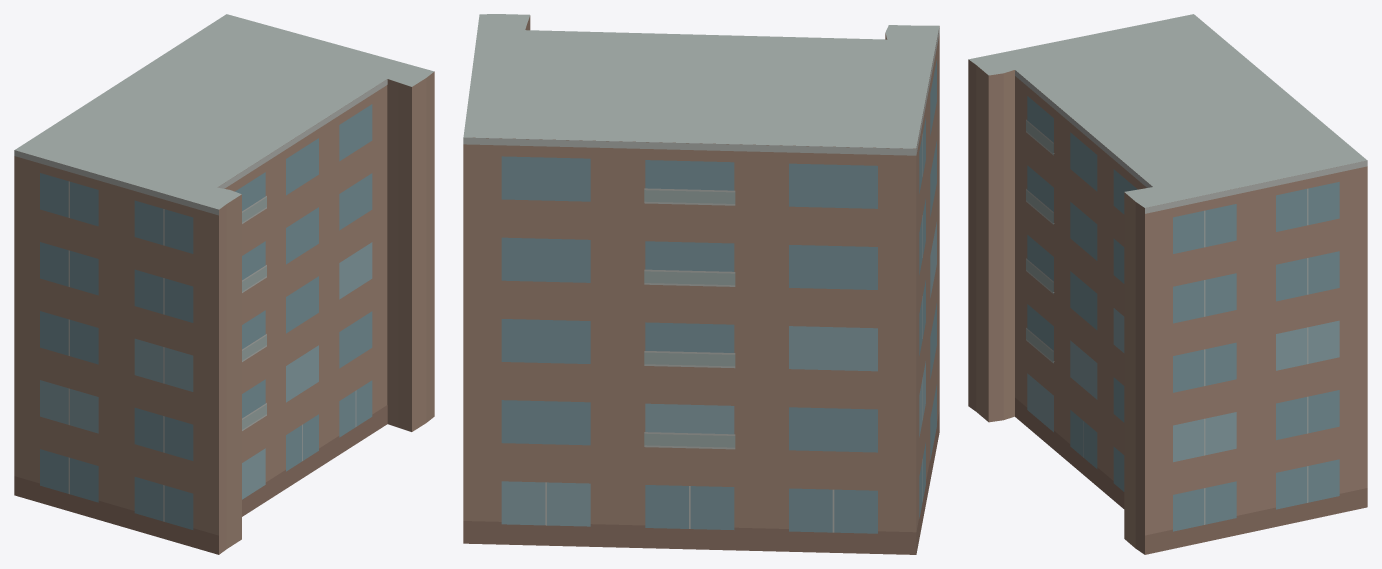
File: survey-upis-32891433.glb
3 renders of one model, left to right at view 1: azimuth 30°, elevation 25°; view 2: azimuth 150°, elevation 25°; view 3: azimuth 270°, elevation 25°, orthographic. The views are drawn at different scales.
Parts seen in each view (by area): view 1: survey-upis-32891433.tmp; view 2: survey-upis-32891433.tmp; view 3: survey-upis-32891433.tmp.
Part boxes in pixels (x1,y1,x2,y2): survey-upis-32891433.tmp: (14, 14, 434, 554); survey-upis-32891433.tmp: (463, 14, 939, 554); survey-upis-32891433.tmp: (968, 14, 1367, 554).
Size of the model in its own units: 17.16 by 14.3 by 14.92.
